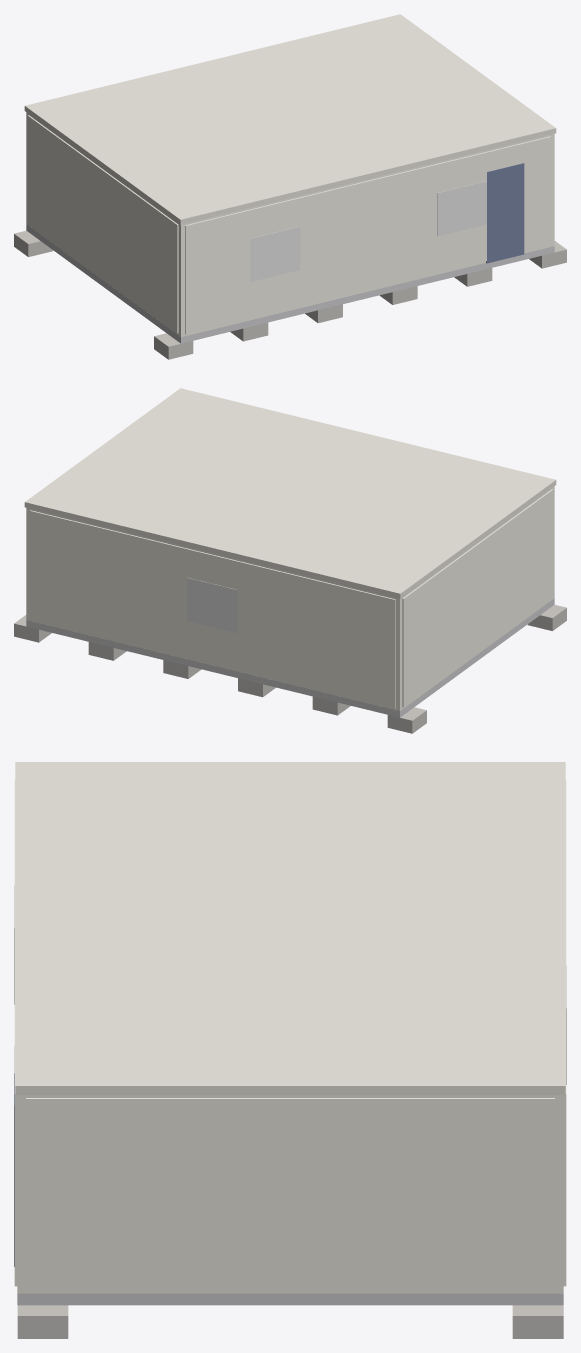
The model's file is Studio-30-Base-IvoryWhite-LOD2.glb.
3 views of the same model, one above another, from view 1: azimuth 30°, elevation 25°; view 2: azimuth 150°, elevation 25°; view 3: azimuth 270°, elevation 25° (orthographic). The views are drawn at different scales.
Parts seen in each view (by area): view 1: RoofMain, ExteriorPanelsStandard, WindowsStandard, BaseFrame, FoundationBlocks, ExteriorShell, EntryDoor; view 2: RoofMain, ExteriorPanelsStandard, BaseFrame, ExteriorShell, FoundationBlocks, WindowsStandard; view 3: RoofMain, ExteriorPanelsStandard, BaseFrame, ExteriorShell, FoundationBlocks.
Boxes of the visible parts, <box> form: RoofMain: <box>24,14,556,224</box>; ExteriorPanelsStandard: <box>27,115,550,334</box>; WindowsStandard: <box>250,181,486,281</box>; BaseFrame: <box>26,224,554,343</box>; FoundationBlocks: <box>14,230,566,359</box>; ExteriorShell: <box>26,112,554,336</box>; EntryDoor: <box>486,163,524,263</box>; RoofMain: <box>24,388,556,598</box>; ExteriorPanelsStandard: <box>30,489,553,708</box>; BaseFrame: <box>26,598,554,717</box>; ExteriorShell: <box>26,486,554,710</box>; FoundationBlocks: <box>14,604,566,733</box>; WindowsStandard: <box>187,577,237,633</box>; RoofMain: <box>15,762,565,1094</box>; ExteriorPanelsStandard: <box>14,779,566,1290</box>; BaseFrame: <box>17,1293,563,1305</box>; ExteriorShell: <box>17,1095,563,1293</box>; FoundationBlocks: <box>17,1305,563,1338</box>.
Bounding box in the file's own units: 9.6 × 3.17 × 6.53.
